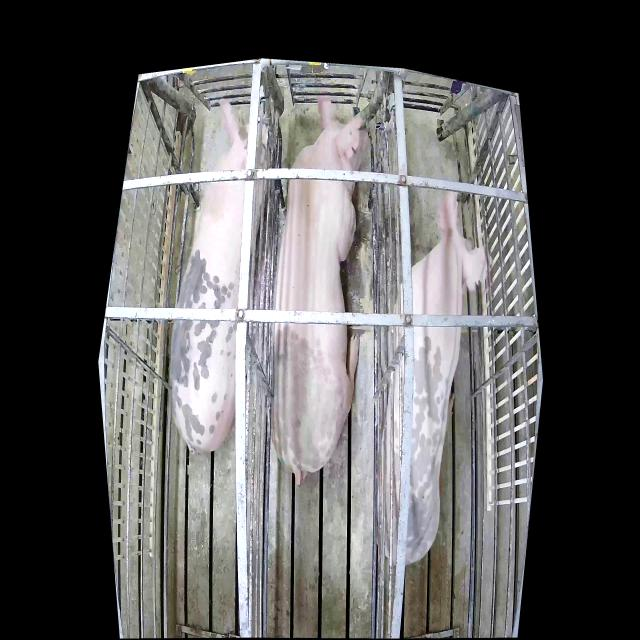pig: (377, 191, 492, 566), (272, 98, 370, 487), (170, 97, 270, 452)
